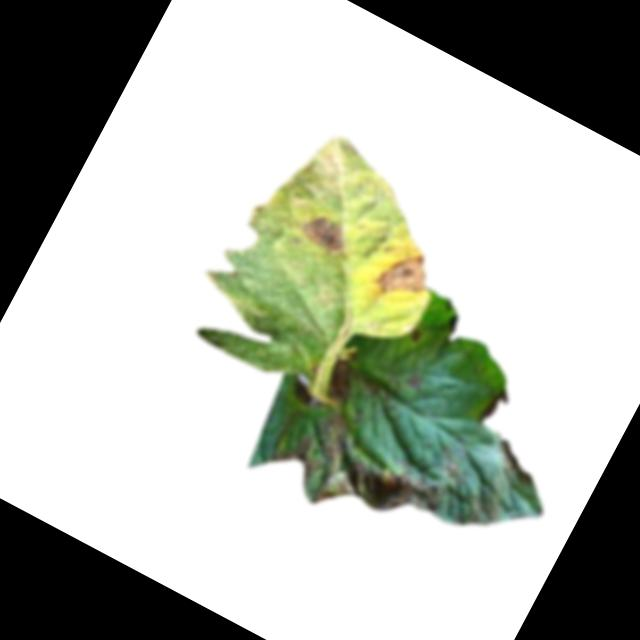Early_blight: (257, 392, 457, 558), (367, 237, 437, 308), (296, 207, 355, 259), (486, 437, 544, 486), (474, 380, 517, 431), (322, 361, 365, 407), (403, 327, 421, 345)
